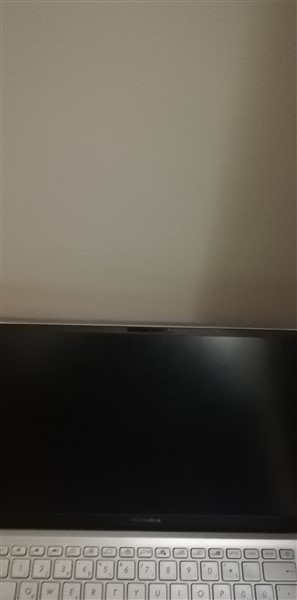laptop: (1, 318, 297, 599)
